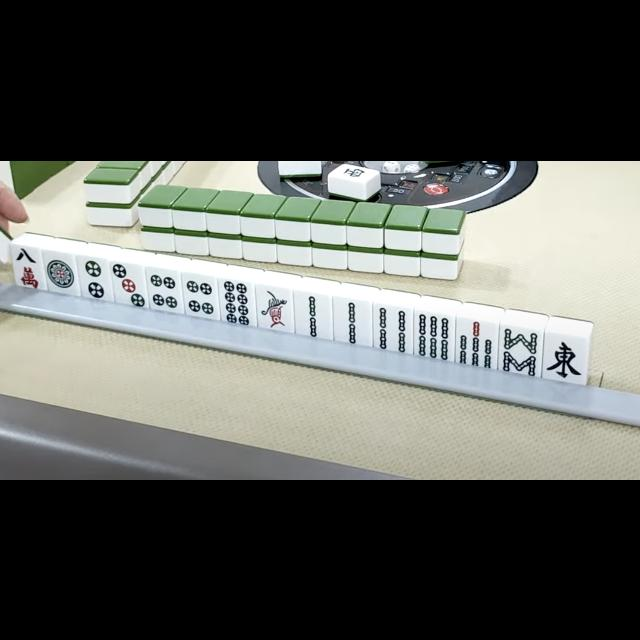b1: (257, 284, 293, 330)
b2: (334, 298, 372, 344), (296, 292, 332, 336)
b4: (373, 305, 413, 351)
b6: (414, 310, 454, 360)
b7: (456, 318, 498, 367)
b8: (498, 324, 542, 376)
c8: (12, 244, 42, 286)
d1: (44, 250, 78, 294)
d2: (76, 256, 112, 300)
d3: (111, 261, 147, 307)
d4: (148, 268, 182, 312), (184, 273, 218, 317)
d8: (219, 278, 255, 326)
we: (544, 332, 588, 382)
